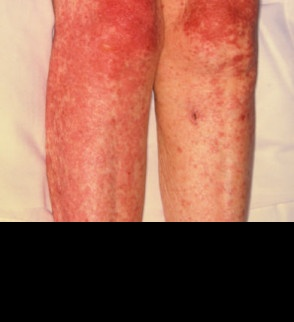SJS-TEN: (42, 0, 264, 224)
